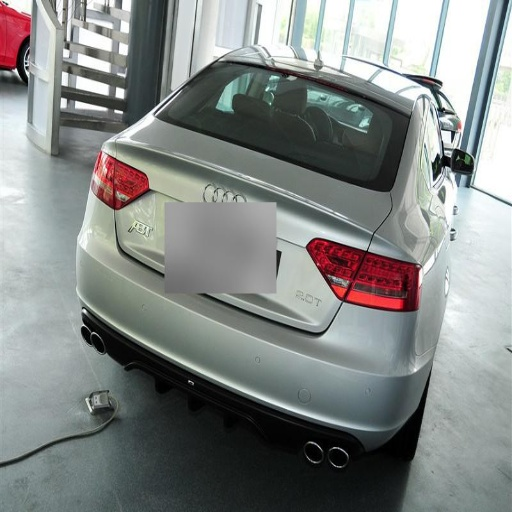_background_: (75, 197, 433, 467)
back_bumper: (156, 62, 403, 190)
back_left_door: (309, 240, 405, 307), (91, 145, 118, 207)
right_mirror: (193, 247, 339, 333), (111, 124, 184, 207), (327, 193, 390, 236)
tailgate: (111, 135, 313, 309)
